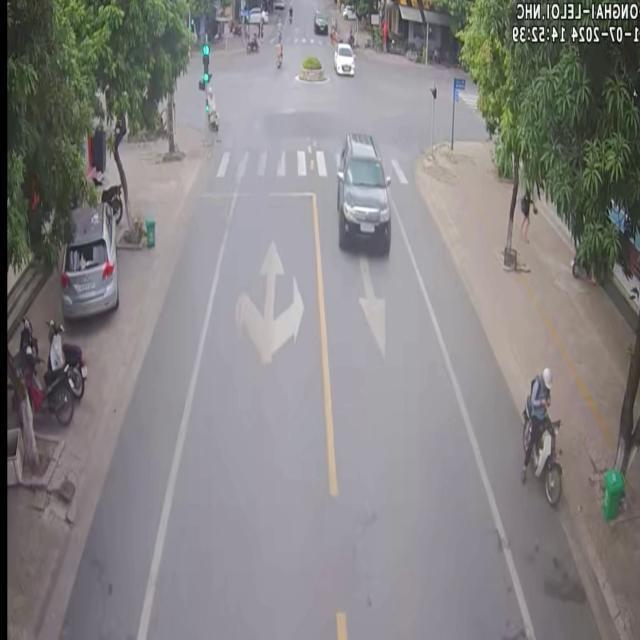car: (58, 200, 117, 317), (336, 131, 389, 254), (332, 42, 353, 74)
green_light: (200, 45, 209, 87)
motobike: (519, 365, 560, 504), (15, 345, 72, 422), (46, 318, 86, 398), (206, 94, 217, 128)
stop_line: (192, 188, 311, 195)
